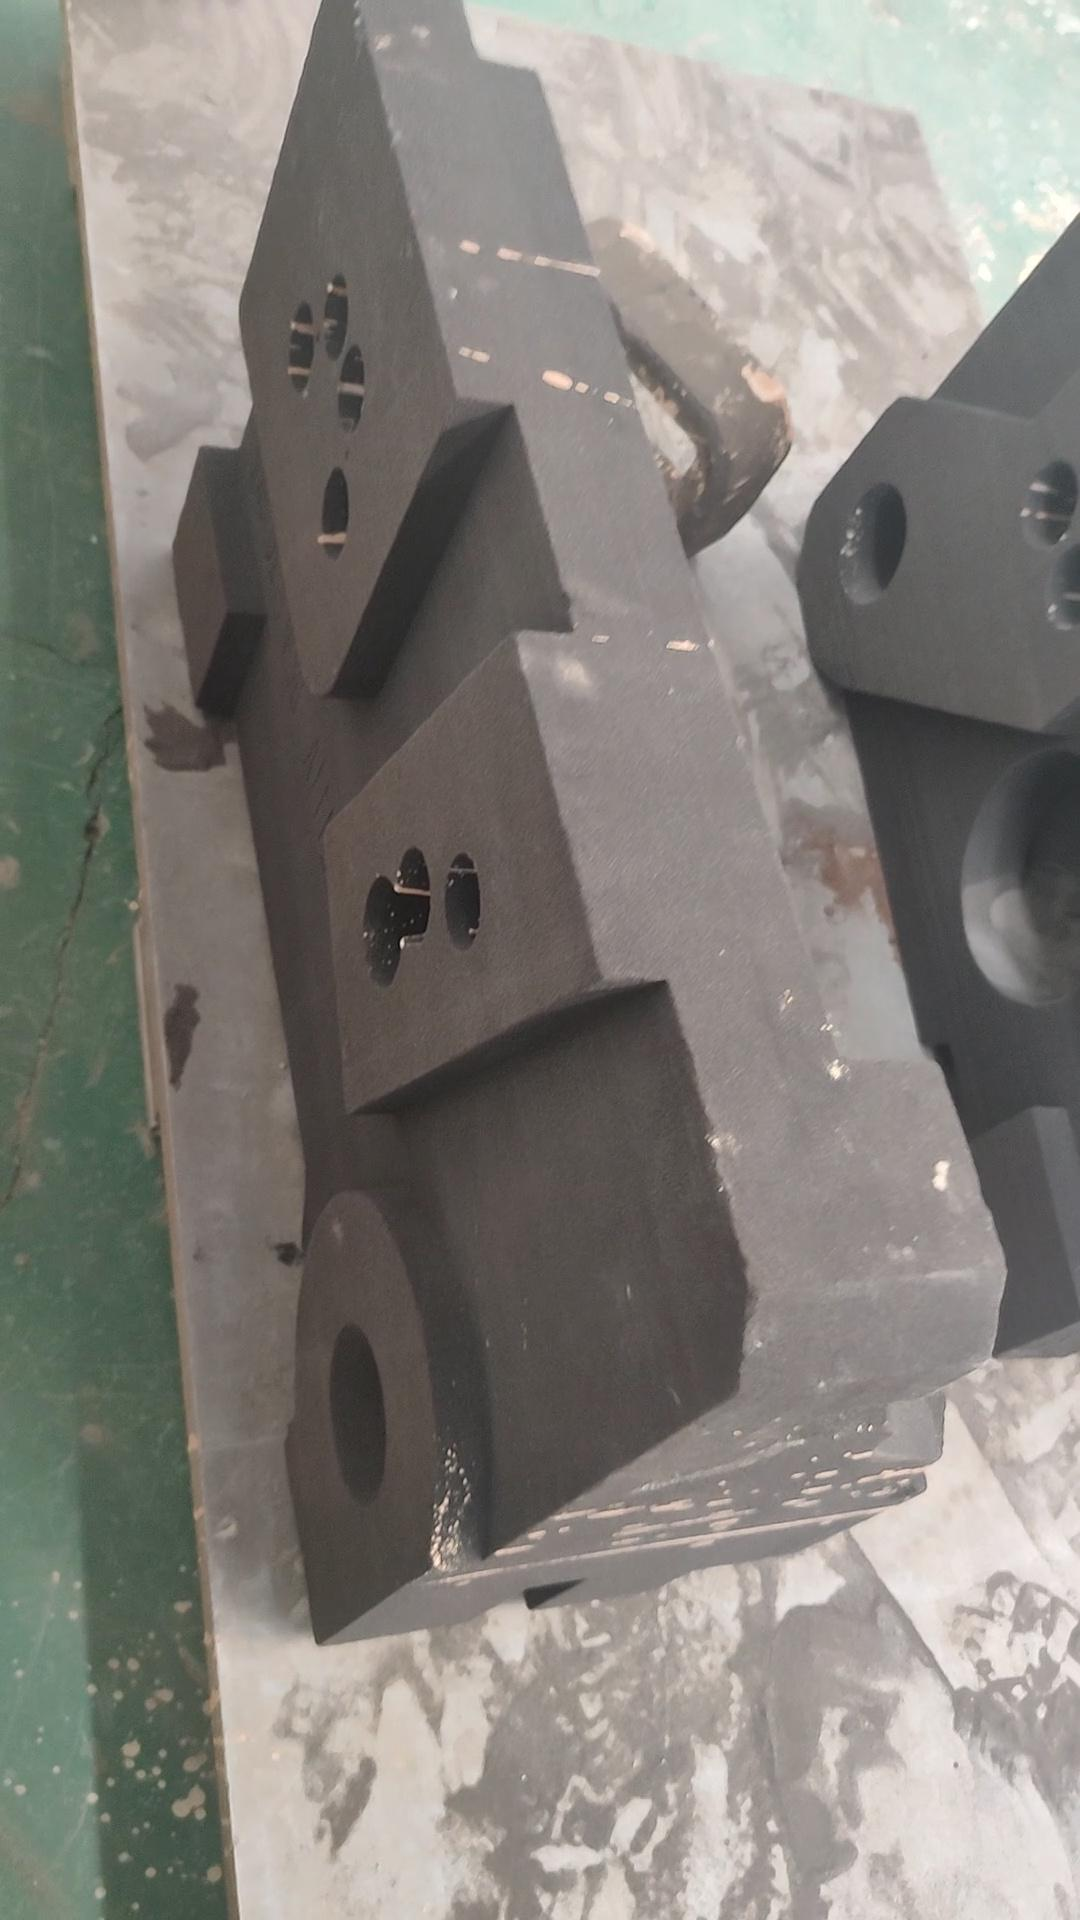pouring hole: (324, 1324, 393, 1506), (833, 480, 909, 607)
